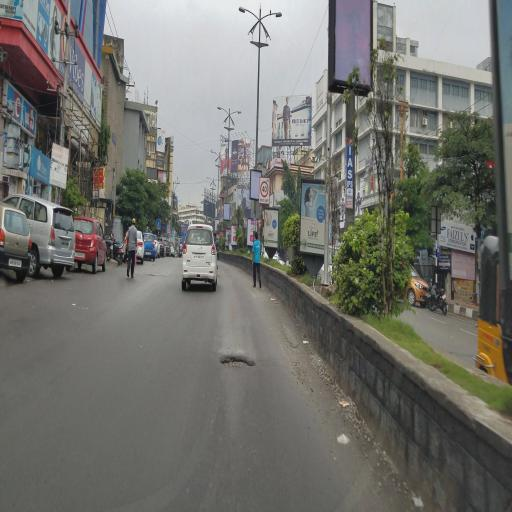street_light_0: (234, 0, 260, 32), (262, 1, 286, 34), (229, 104, 249, 123), (210, 103, 229, 122), (218, 140, 230, 160), (206, 143, 217, 161), (204, 170, 212, 187), (212, 169, 220, 186)
